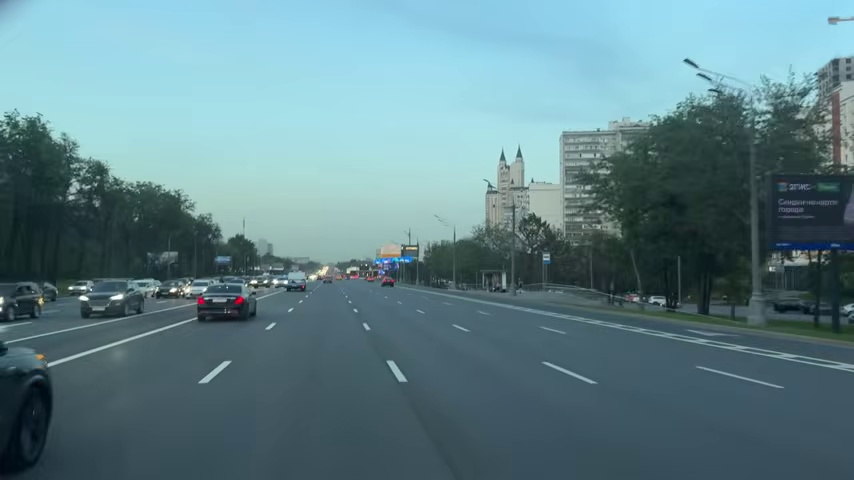apagada: (679, 55, 703, 79)
